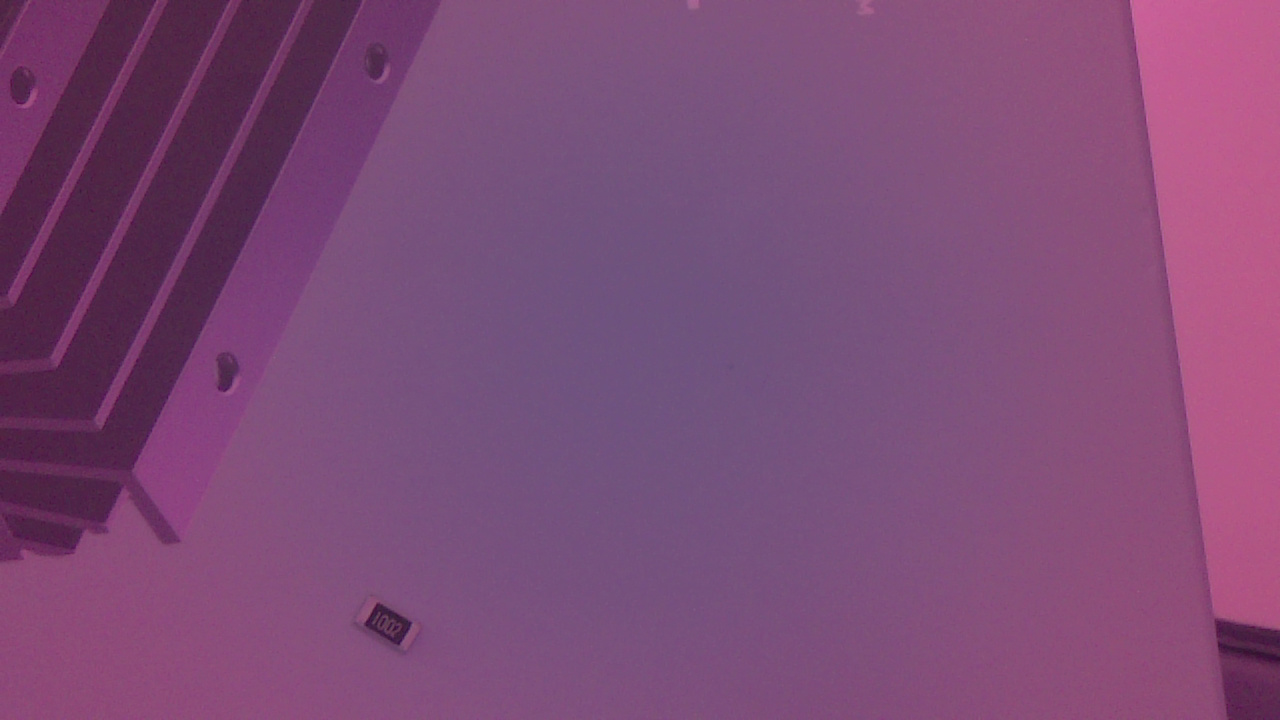Resistor: (354, 595, 427, 661)
